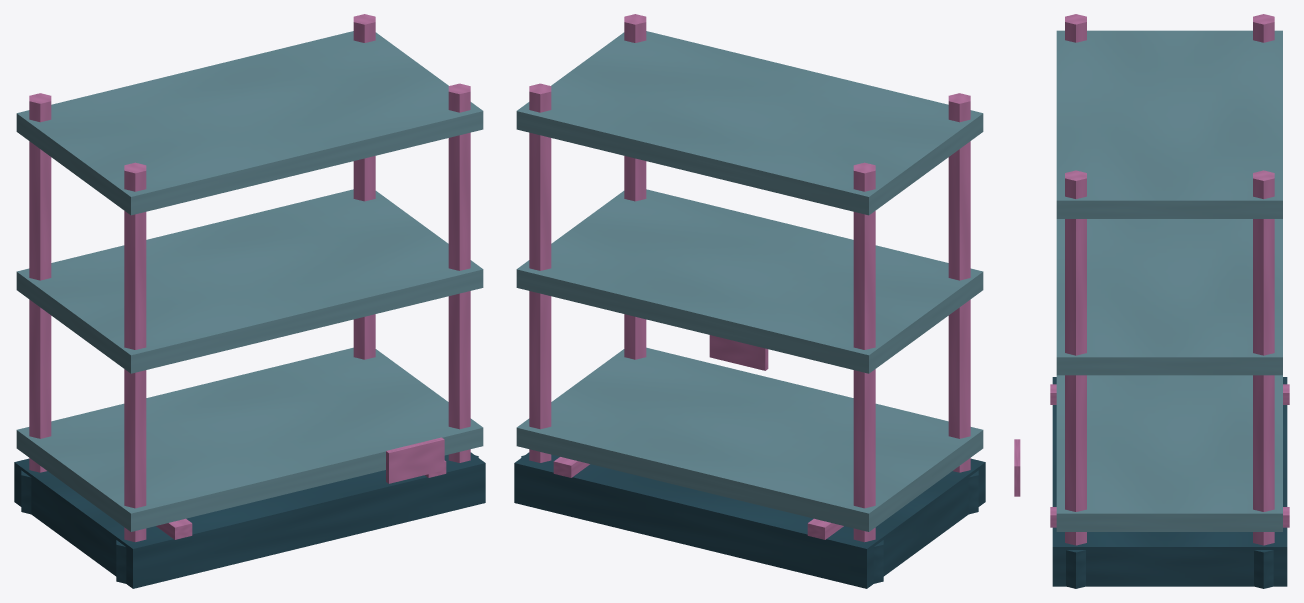
File: atlas100-s067-a06.lod1.glb
The picture shows the model from 3 angles, left to right: view 1: azimuth 30°, elevation 25°; view 2: azimuth 150°, elevation 25°; view 3: azimuth 270°, elevation 25°; orthographic projection.
Parts seen in each view (by area): view 1: atlas100-s067-a06:part-013, atlas100-s067-a06:part-012, atlas100-s067-a06:part-011, atlas100-s067-a06:part-000, atlas100-s067-a06:part-005, atlas100-s067-a06:part-009, atlas100-s067-a06:part-003, atlas100-s067-a06:part-007, atlas100-s067-a06:part-014; view 2: atlas100-s067-a06:part-013, atlas100-s067-a06:part-012, atlas100-s067-a06:part-011, atlas100-s067-a06:part-000, atlas100-s067-a06:part-003, atlas100-s067-a06:part-007, atlas100-s067-a06:part-005, atlas100-s067-a06:part-009, atlas100-s067-a06:part-014; view 3: atlas100-s067-a06:part-013, atlas100-s067-a06:part-012, atlas100-s067-a06:part-011, atlas100-s067-a06:part-000, atlas100-s067-a06:part-007, atlas100-s067-a06:part-009, atlas100-s067-a06:part-008, atlas100-s067-a06:part-010, atlas100-s067-a06:part-003, atlas100-s067-a06:part-005, atlas100-s067-a06:part-014.
Boxes of the visible parts, x1,y1,x2,y2 form: atlas100-s067-a06:part-013: (16,31,483,215); atlas100-s067-a06:part-012: (16,189,483,373); atlas100-s067-a06:part-011: (16,347,483,531); atlas100-s067-a06:part-000: (14,452,485,588); atlas100-s067-a06:part-005: (124,162,146,542); atlas100-s067-a06:part-009: (448,83,470,462); atlas100-s067-a06:part-003: (29,93,51,472); atlas100-s067-a06:part-007: (353,14,375,359); atlas100-s067-a06:part-014: (386,437,444,483); atlas100-s067-a06:part-013: (516,31,983,215); atlas100-s067-a06:part-012: (516,189,983,373); atlas100-s067-a06:part-011: (516,347,983,531); atlas100-s067-a06:part-000: (514,452,985,588); atlas100-s067-a06:part-003: (853,162,875,542); atlas100-s067-a06:part-007: (529,83,551,462); atlas100-s067-a06:part-005: (948,93,970,472); atlas100-s067-a06:part-009: (624,14,646,359); atlas100-s067-a06:part-014: (709,335,768,370); atlas100-s067-a06:part-013: (1056,30,1282,218); atlas100-s067-a06:part-012: (1056,219,1282,375); atlas100-s067-a06:part-011: (1056,375,1282,531); atlas100-s067-a06:part-000: (1052,377,1287,586); atlas100-s067-a06:part-007: (1253,170,1274,545); atlas100-s067-a06:part-009: (1065,170,1086,545); atlas100-s067-a06:part-008: (1254,550,1273,588); atlas100-s067-a06:part-010: (1066,550,1085,588); atlas100-s067-a06:part-003: (1253,14,1274,42); atlas100-s067-a06:part-005: (1065,14,1086,42); atlas100-s067-a06:part-014: (1014,439,1020,496).
Size of the model in its own units: 2.47 by 2.66 by 1.64.
Materials: 3 (3 with a texture image).
